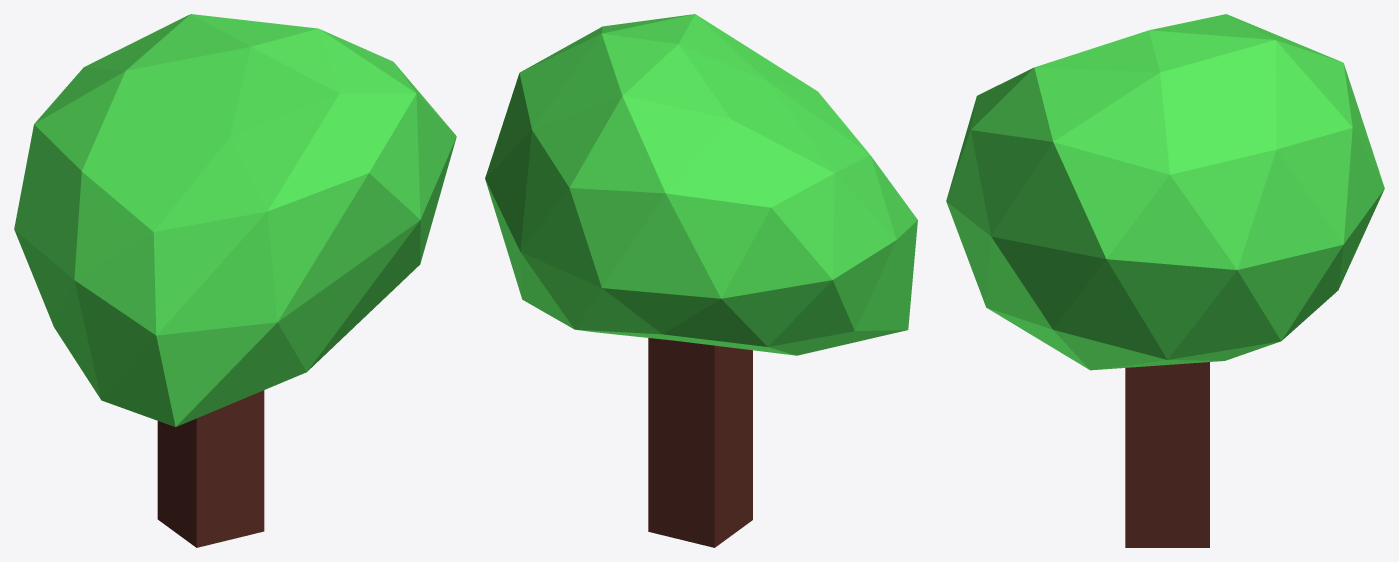
Rendered from tree.fbx.
3 views of the same model, side by side, from view 1: azimuth 30°, elevation 25°; view 2: azimuth 150°, elevation 25°; view 3: azimuth 270°, elevation 25° (orthographic). The views are drawn at different scales.
Parts seen in each view (by area): view 1: Tree; view 2: Tree; view 3: Tree.
Part boxes in pixels (x1,y1,x2,y2): Tree: (14, 14, 456, 547); Tree: (485, 14, 917, 547); Tree: (946, 14, 1384, 547).
Bounding box in the file's own units: 564 × 667 × 514.
